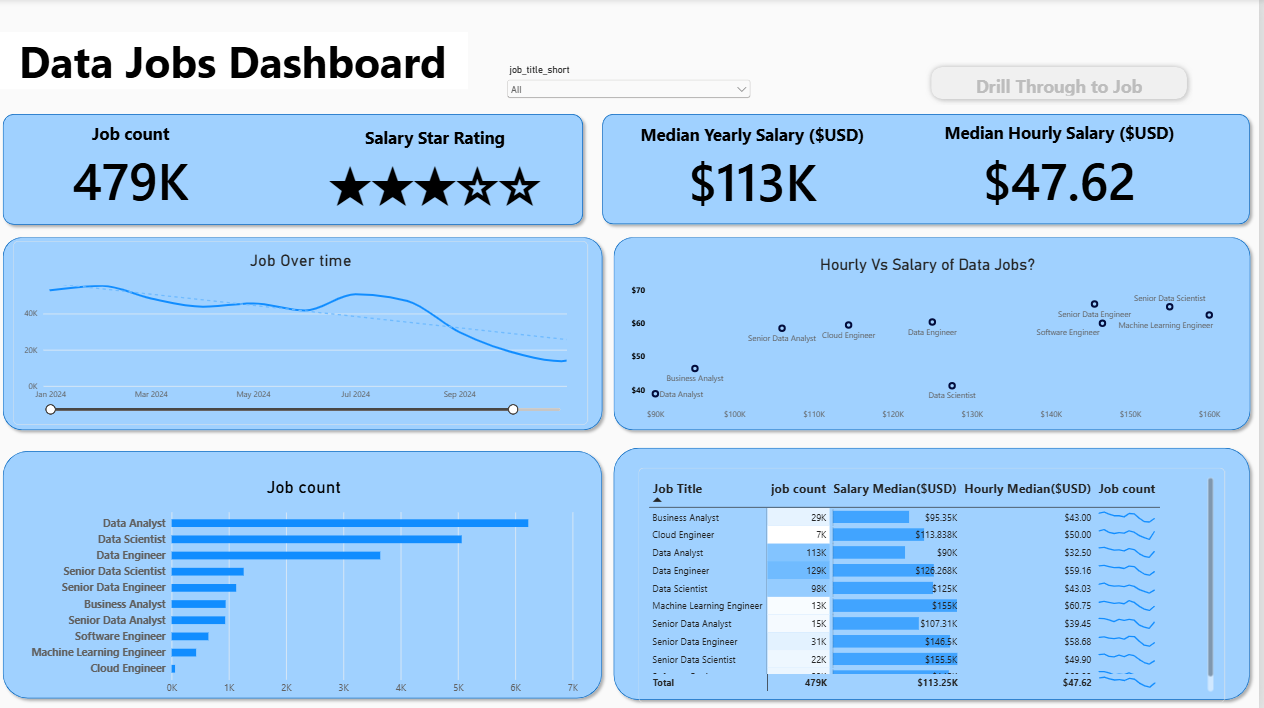

What the dashboard file says about the page in this screenshot:
{"tool":"powerbi","page":{"name":"Data job Dashboard","canvas":[1920,1080],"ordinal":0},"visuals":[{"type":"group","id":"g1","title":"Background","box":[0,166.7,1916.7,910.2],"z":0},{"type":"shape","box":[0,167.3,900.5,186.4],"z":0,"group":"g1"},{"type":"shape","box":[912.1,166.7,1002.9,185.5],"z":1000,"group":"g1"},{"type":"slicer","fields":{"Values":["job_postings_flat.job_title_short"]},"box":[771.4,101,379.5,93.7],"z":2000},{"type":"shape","box":[930,353.7,986.6,311.5],"z":2000,"group":"g1"},{"type":"cardVisual","fields":{"Data":["CountNonNull(job_postings_flat.job_title_short)"]},"box":[29.6,182.4,345,150.3],"z":3000},{"type":"shape","box":[0,353.7,930,311.5],"z":3000,"group":"g1"},{"type":"shape","box":[0,680.1,929.1,394.3],"z":4000,"group":"g1"},{"type":"textbox","box":[0,823,932,150],"z":4000},{"type":"cardVisual","fields":{"Data":["job_postings_flat.Median of salary_year_avg star rating"]},"box":[465.8,182.4,399.3,162.7],"z":5000},{"type":"shape","box":[929.1,675.2,985.8,401.7],"z":5000,"group":"g1"},{"type":"cardVisual","fields":{"Data":["Median(job_postings_flat.salary_year_avg)"]},"box":[961.2,167.6,374.6,182.4],"z":6000},{"type":"cardVisual","fields":{"Data":["Median(job_postings_flat.salary_hour_avg)"]},"box":[1399.8,165.1,431.3,184.8],"z":7000},{"type":"barChart","title":"Job count","fields":{"Category":["job_postings_flat.job_title_short"],"Y":["CountNonNull(job_postings_flat.salary_year_avg)"]},"box":[34.5,714.7,865,364.7],"z":8000},{"type":"scatterChart","title":"Hourly Vs Salary of Data Jobs?","fields":{"Series":["job_postings_flat.job_title_short"],"Y":["Median(job_postings_flat.salary_hour_avg)"],"X":["job_postings_flat.salary_year_avg"]},"box":[948.8,377.1,934.1,285.9],"z":10000},{"type":"pivotTable","fields":{"Rows":["job_postings_flat.job_title_short"],"Values":["CountNonNull(job_postings_flat.job_title_short)","Median(job_postings_flat.salary_year_avg)","Median(job_postings_flat.salary_hour_avg)","SparklineData(CountNonNull(job_postings_flat.job_title_short)_[job_postings_flat.job_posted_date.Variation.Date Hierarch"]},"box":[976,714.7,892.2,357.4],"z":11000},{"type":"actionButton","box":[1413.2,97.3,407.1,66.6],"z":12000},{"type":"textbox","box":[100,100,300,300],"z":13000},{"type":"shape","box":[0,51.8,716.8,87],"z":14000},{"type":"lineChart","title":"Job Over time","fields":{"Category":["job_postings_flat.job_posted_date.Variation.Date Hierarchy.Year","job_postings_flat.job_posted_date.Variation.Date Hierarchy.Quarter","job_postings_flat.job_posted_date.Variation.Date Hierarchy.Month","job_postings_flat.job_posted_date.Variation.Date Hierarchy.Day"],"Y":["CountNonNull(job_postings_flat.job_title_short)"]},"box":[25.6,368.7,874.2,279.8],"z":14001}]}

Visuals, with their boxes in screenshot pixels (x1, y1, x2, y2), scaled from the page's 1920x1080 canvas onto the 1264x708 screenshot:
"Background" group: locate(0, 109, 1262, 706)
shape: locate(0, 110, 593, 232)
shape: locate(600, 109, 1261, 231)
slicer - job_postings_flat.job_title_short: locate(508, 66, 758, 128)
shape: locate(612, 232, 1262, 436)
cardVisual - CountNonNull(job_postings_flat.job_title_short): locate(19, 120, 247, 218)
shape: locate(0, 232, 612, 436)
shape: locate(0, 446, 612, 704)
textbox: locate(0, 540, 614, 638)
cardVisual - job_postings_flat.Median of salary_year_avg star rating: locate(307, 120, 570, 226)
shape: locate(612, 443, 1261, 706)
cardVisual - Median(job_postings_flat.salary_year_avg): locate(633, 110, 879, 229)
cardVisual - Median(job_postings_flat.salary_hour_avg): locate(922, 108, 1205, 229)
"Job count" barChart: locate(23, 469, 592, 707)
"Hourly Vs Salary of Data Jobs?" scatterChart: locate(625, 247, 1240, 435)
pivotTable - job_postings_flat.job_title_short x CountNonNull(job_postings_flat.job_title_short): locate(643, 469, 1230, 703)
actionButton: locate(930, 64, 1198, 107)
textbox: locate(66, 66, 263, 262)
shape: locate(0, 34, 472, 91)
"Job Over time" lineChart: locate(17, 242, 592, 425)
